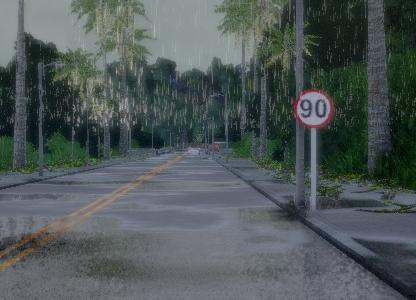Speed_90: (293, 88, 335, 129)
